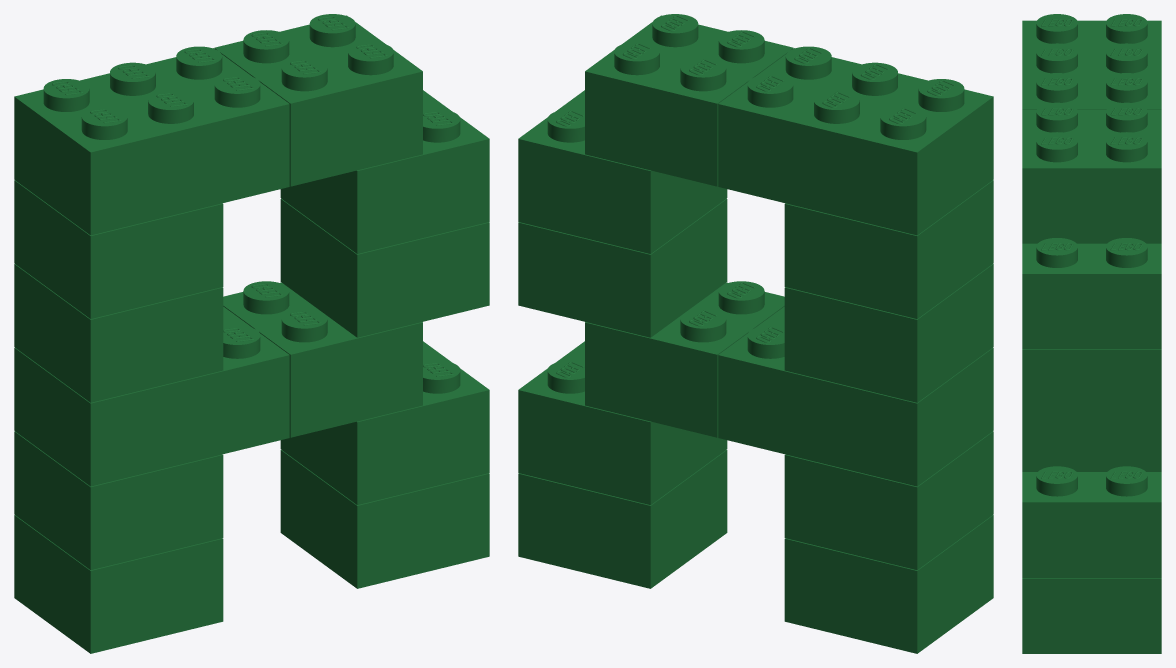
The picture shows the model from 3 angles, left to right: view 1: azimuth 30°, elevation 25°; view 2: azimuth 150°, elevation 25°; view 3: azimuth 270°, elevation 25°; orthographic projection. The views are drawn at different scales.
Visible parts, largest first — view 1: Inner-Node-R_dot_io-7, Inner-Node-R_dot_io-10, Inner-Node-R_dot_io-8, Inner-Node-R_dot_io-0, Inner-Node-R_dot_io-2, Inner-Node-R_dot_io-5, Inner-Node-R_dot_io-9, Inner-Node-R_dot_io-1, Inner-Node-R_dot_io-4, Inner-Node-R_dot_io-3, Inner-Node-R_dot_io-6, Inner-Node-R_dot_io-11; view 2: Inner-Node-R_dot_io-7, Inner-Node-R_dot_io-10, Inner-Node-R_dot_io-8, Inner-Node-R_dot_io-0, Inner-Node-R_dot_io-2, Inner-Node-R_dot_io-5, Inner-Node-R_dot_io-9, Inner-Node-R_dot_io-1, Inner-Node-R_dot_io-4, Inner-Node-R_dot_io-3, Inner-Node-R_dot_io-6, Inner-Node-R_dot_io-11; view 3: Inner-Node-R_dot_io-8, Inner-Node-R_dot_io-6, Inner-Node-R_dot_io-3, Inner-Node-R_dot_io-7, Inner-Node-R_dot_io-9, Inner-Node-R_dot_io-2, Inner-Node-R_dot_io-11.
Boxes of the visible parts, x1=… form: Inner-Node-R_dot_io-7: x1=14, y1=46, x2=289, y2=235; Inner-Node-R_dot_io-10: x1=14, y1=306, x2=289, y2=486; Inner-Node-R_dot_io-8: x1=214, y1=14, x2=422, y2=186; Inner-Node-R_dot_io-0: x1=14, y1=431, x2=223, y2=569; Inner-Node-R_dot_io-2: x1=280, y1=450, x2=489, y2=588; Inner-Node-R_dot_io-5: x1=14, y1=180, x2=223, y2=318; Inner-Node-R_dot_io-9: x1=280, y1=198, x2=489, y2=337; Inner-Node-R_dot_io-1: x1=14, y1=264, x2=223, y2=402; Inner-Node-R_dot_io-4: x1=14, y1=515, x2=223, y2=653; Inner-Node-R_dot_io-3: x1=280, y1=341, x2=489, y2=504; Inner-Node-R_dot_io-6: x1=280, y1=90, x2=489, y2=253; Inner-Node-R_dot_io-11: x1=223, y1=281, x2=422, y2=437; Inner-Node-R_dot_io-7: x1=718, y1=46, x2=993, y2=235; Inner-Node-R_dot_io-10: x1=718, y1=306, x2=993, y2=486; Inner-Node-R_dot_io-8: x1=585, y1=14, x2=793, y2=186; Inner-Node-R_dot_io-0: x1=784, y1=431, x2=993, y2=569; Inner-Node-R_dot_io-2: x1=518, y1=450, x2=727, y2=588; Inner-Node-R_dot_io-5: x1=784, y1=180, x2=993, y2=318; Inner-Node-R_dot_io-9: x1=518, y1=198, x2=727, y2=337; Inner-Node-R_dot_io-1: x1=784, y1=264, x2=993, y2=402; Inner-Node-R_dot_io-4: x1=784, y1=515, x2=993, y2=653; Inner-Node-R_dot_io-3: x1=518, y1=341, x2=727, y2=504; Inner-Node-R_dot_io-6: x1=518, y1=90, x2=727, y2=253; Inner-Node-R_dot_io-11: x1=585, y1=281, x2=784, y2=437; Inner-Node-R_dot_io-8: x1=1022, y1=102, x2=1161, y2=243; Inner-Node-R_dot_io-6: x1=1022, y1=238, x2=1161, y2=349; Inner-Node-R_dot_io-3: x1=1022, y1=466, x2=1161, y2=577; Inner-Node-R_dot_io-7: x1=1022, y1=14, x2=1161, y2=109; Inner-Node-R_dot_io-9: x1=1022, y1=349, x2=1161, y2=425; Inner-Node-R_dot_io-2: x1=1022, y1=578, x2=1161, y2=653; Inner-Node-R_dot_io-11: x1=1022, y1=425, x2=1161, y2=471.
Size of the model in its own units: 120 by 148 by 39.75.
